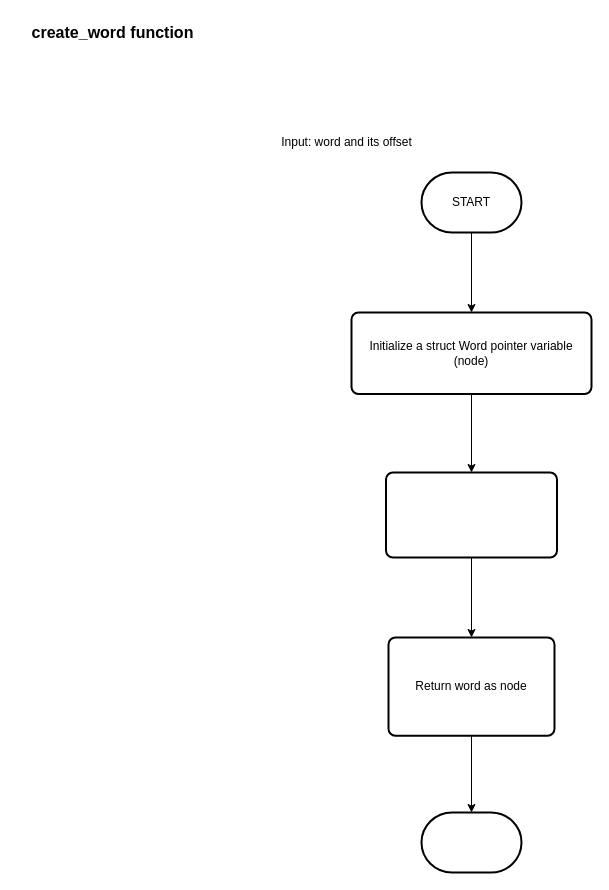
The diagram is 609 pixels wide and 890 high, and some of its shapes have lost their labels. Here are the shapes that lost their labels. From the top down, the centre of each, then its label:
At point (471, 514): "Copy word and offset to that node's fields".
At point (471, 842): "END".
